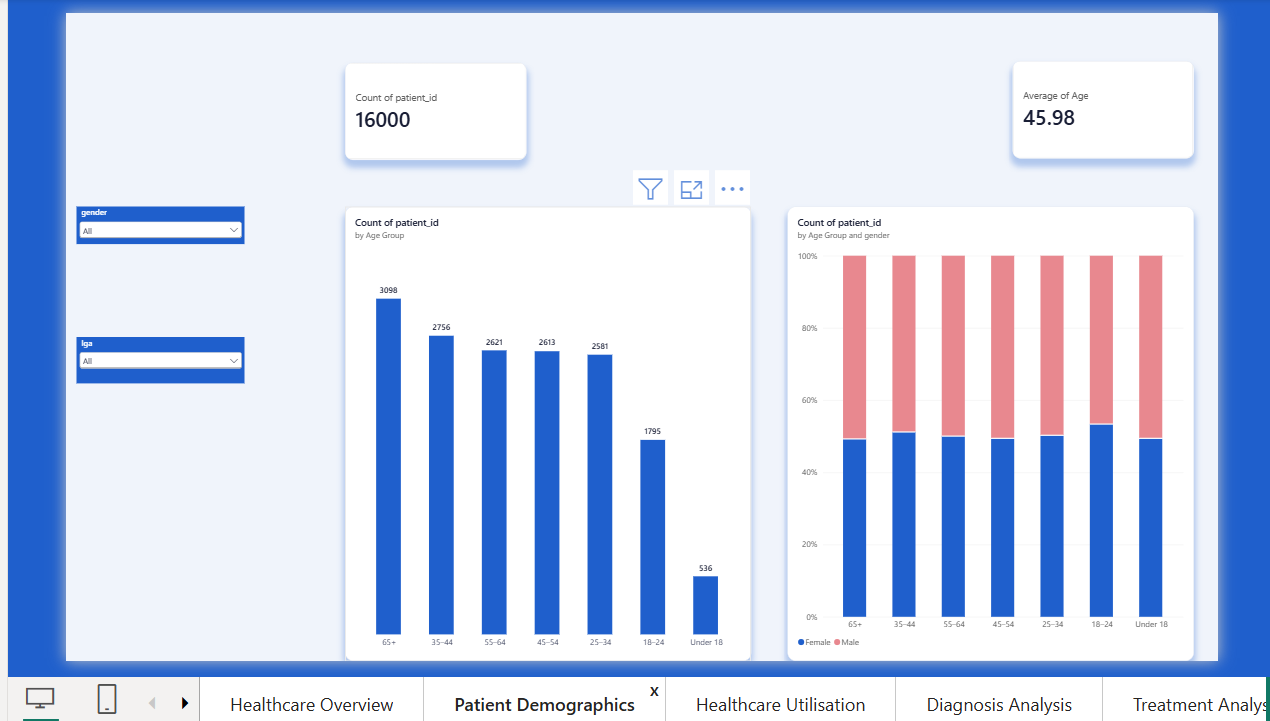

The dashboard page shown, as its layout file describes it:
{"tool":"powerbi","page":{"name":"Patient Demographics","canvas":[1920,1080],"ordinal":1},"visuals":[{"type":"cardVisual","fields":{"Data":["Count(public patients.patient_id)"]},"box":[465,82.5,302.5,162.5],"z":0},{"type":"clusteredColumnChart","fields":{"Category":["public patients.Age Group"],"Y":["Count(public patients.patient_id)"]},"box":[465,322.5,677,757.5],"z":1000},{"type":"cardVisual","fields":{"Data":["Avg(public patients.Age)"]},"box":[1577.5,80,302.5,162.5],"z":2000},{"type":"hundredPercentStackedColumnChart","fields":{"Category":["public patients.Age Group"],"Series":["public patients.gender"],"Y":["Count(public patients.patient_id)"]},"box":[1202.5,322.5,677.5,757.5],"z":2001},{"type":"slicer","fields":{"Values":["public patients.gender"]},"box":[17.5,322.5,280,62.5],"z":2002},{"type":"slicer","fields":{"Values":["public facilities.lga"]},"box":[17.5,540,280,77.5],"z":2003}]}

Visuals, with their boxes on the page's 1920x1080 design canvas (x1, y1, x2, y2). These are canvas units, not pixel positions in the 1270x721 screenshot, which may show the page scaled, cropped or inside an application window:
cardVisual - Count(public patients.patient_id): [left=465, top=82, right=768, bottom=245]
clusteredColumnChart - public patients.Age Group x Count(public patients.patient_id): [left=465, top=322, right=1142, bottom=1080]
cardVisual - Avg(public patients.Age): [left=1578, top=80, right=1880, bottom=242]
hundredPercentStackedColumnChart - public patients.Age Group x public patients.gender: [left=1202, top=322, right=1880, bottom=1080]
slicer - public patients.gender: [left=18, top=322, right=298, bottom=385]
slicer - public facilities.lga: [left=18, top=540, right=298, bottom=618]
